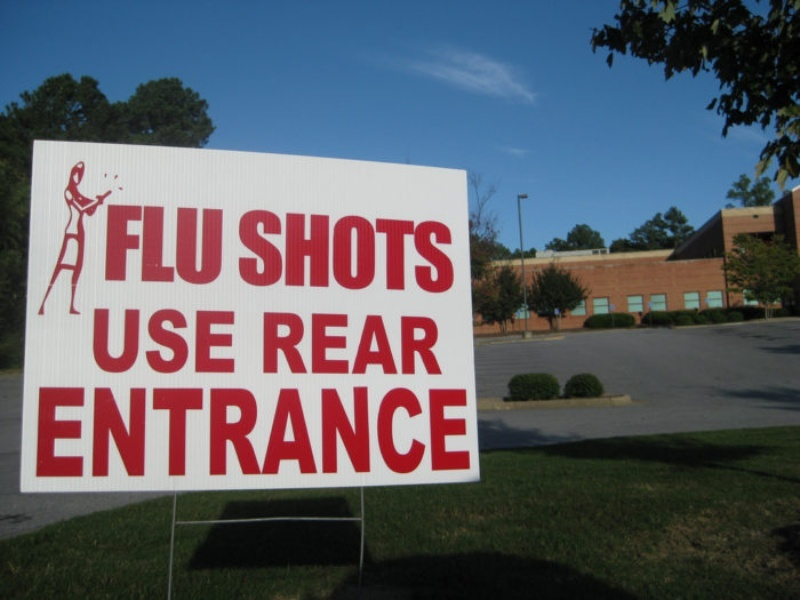text: (49, 385, 64, 479), (65, 385, 80, 479), (81, 385, 96, 479), (97, 385, 112, 479), (113, 385, 128, 479), (129, 385, 144, 479), (145, 385, 160, 479), (161, 385, 176, 479), (177, 385, 192, 479), (193, 385, 208, 479), (209, 385, 224, 479), (225, 385, 240, 479), (241, 385, 256, 479), (257, 385, 272, 479), (273, 385, 288, 479), (289, 385, 304, 479), (305, 385, 320, 479), (321, 385, 336, 479), (337, 385, 352, 479), (353, 385, 368, 479), (369, 385, 384, 479), (385, 385, 400, 479), (401, 385, 416, 479), (417, 385, 432, 479), (433, 385, 448, 479), (449, 385, 464, 479), (241, 207, 256, 294), (257, 207, 272, 294), (273, 207, 288, 294), (289, 207, 304, 294), (305, 207, 320, 294), (321, 207, 336, 294), (337, 207, 352, 294), (353, 207, 368, 294), (369, 207, 384, 294), (385, 207, 400, 294), (401, 207, 416, 294), (417, 207, 432, 294), (433, 207, 448, 294), (113, 204, 128, 284), (129, 204, 144, 284), (145, 204, 160, 284), (161, 204, 176, 284), (177, 204, 192, 284), (193, 204, 208, 284), (209, 204, 223, 284), (97, 308, 112, 374), (113, 308, 128, 374), (129, 308, 144, 374), (145, 308, 160, 374), (161, 308, 176, 374), (177, 308, 192, 374), (193, 308, 208, 374), (209, 308, 224, 374), (273, 310, 288, 374), (289, 310, 304, 374), (305, 310, 320, 374), (321, 310, 336, 374), (337, 310, 352, 374), (353, 310, 368, 374), (369, 310, 384, 374), (385, 310, 400, 374), (401, 310, 416, 374), (417, 310, 432, 374), (38, 385, 48, 479), (225, 308, 236, 374), (262, 310, 272, 374), (433, 310, 443, 374), (465, 385, 471, 479), (106, 204, 112, 284), (449, 207, 454, 294), (92, 308, 96, 374), (237, 207, 240, 294)
